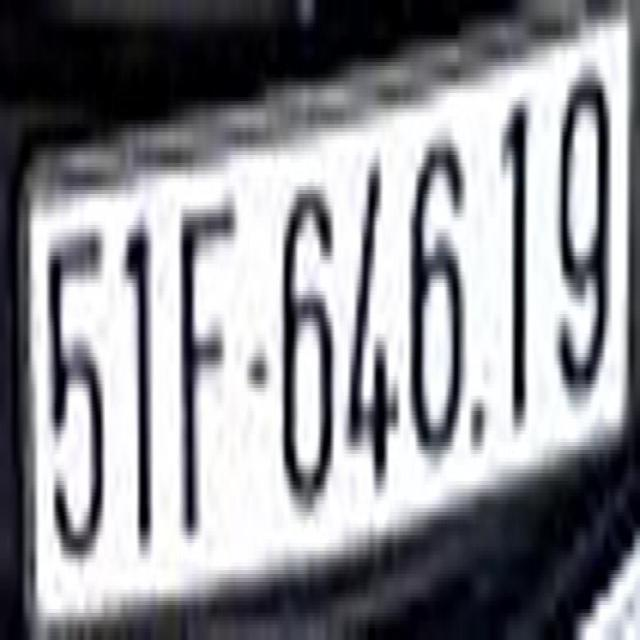1: (118, 217, 154, 559), (496, 93, 531, 438)
4: (346, 152, 399, 496)
5: (45, 221, 106, 555)
6: (407, 136, 465, 488), (280, 167, 334, 520)
9: (556, 58, 618, 400)
F: (175, 178, 238, 536)
